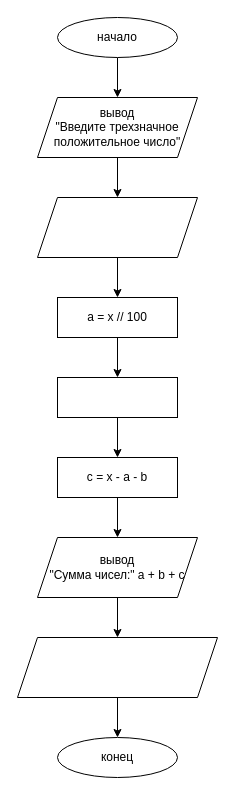
Some shapes in this 235 by 795 pixel diagram are drawn without their labels. The shapes that lost their labels are listed below. From the top down, each one's centre as x and y in pixels, then its label:
(x=117, y=227): ввод x
(x=117, y=397): b = (x - a * 100) // 10
(x=117, y=667): вывод "Произведение чисел:"a * b * c
